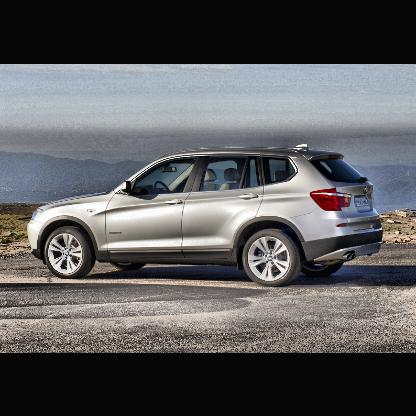BMW X3 SUV 2012: (28, 143, 384, 289)
